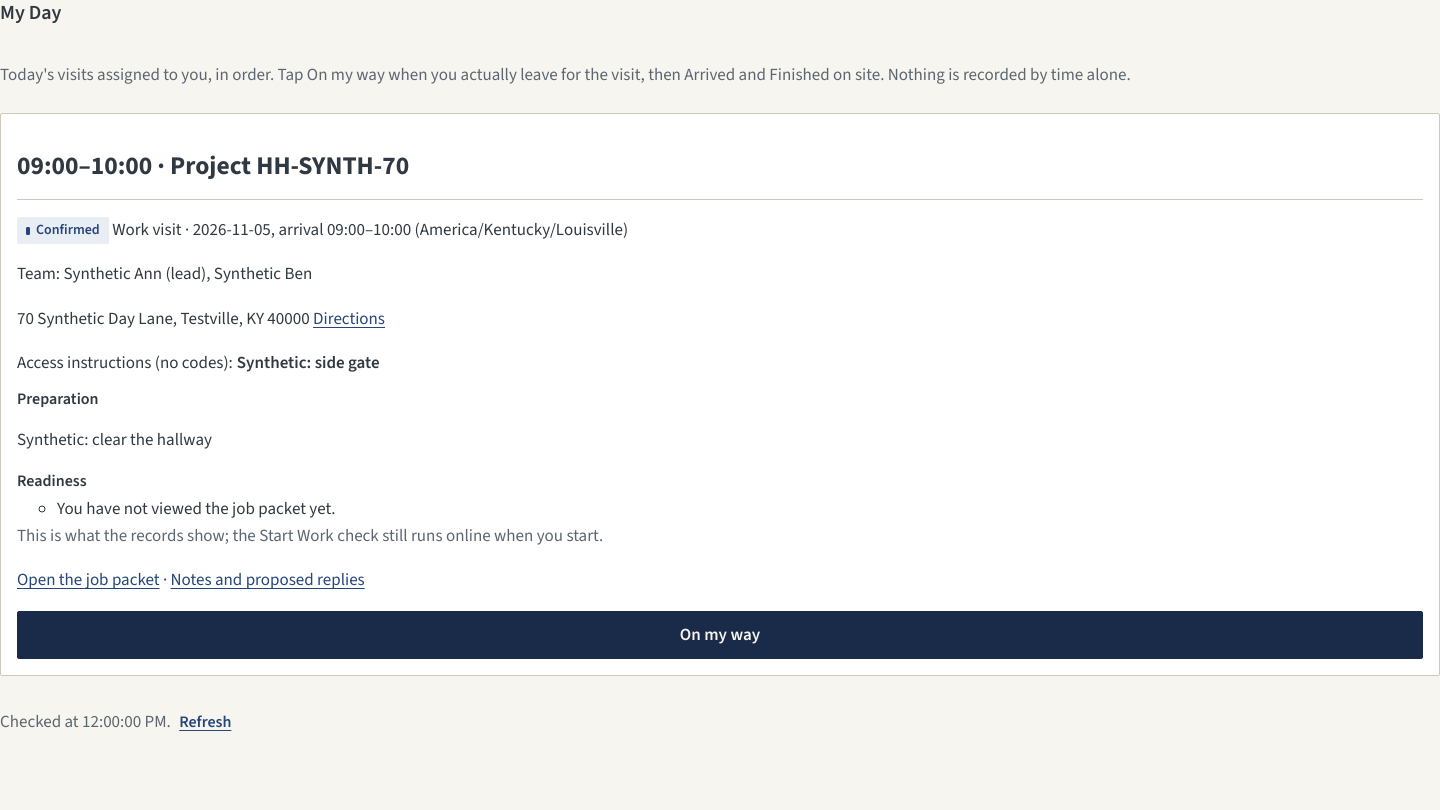
My Day (TSK-0070) › [HH-SCH-08][HH-WORK-06][OWN-DEC-149] the taps: On my way, then Arrived, then Finished, each the server’s answer; no check-in between
Click the button "On my way".
click(720, 635)  # box [17, 611, 1423, 659]
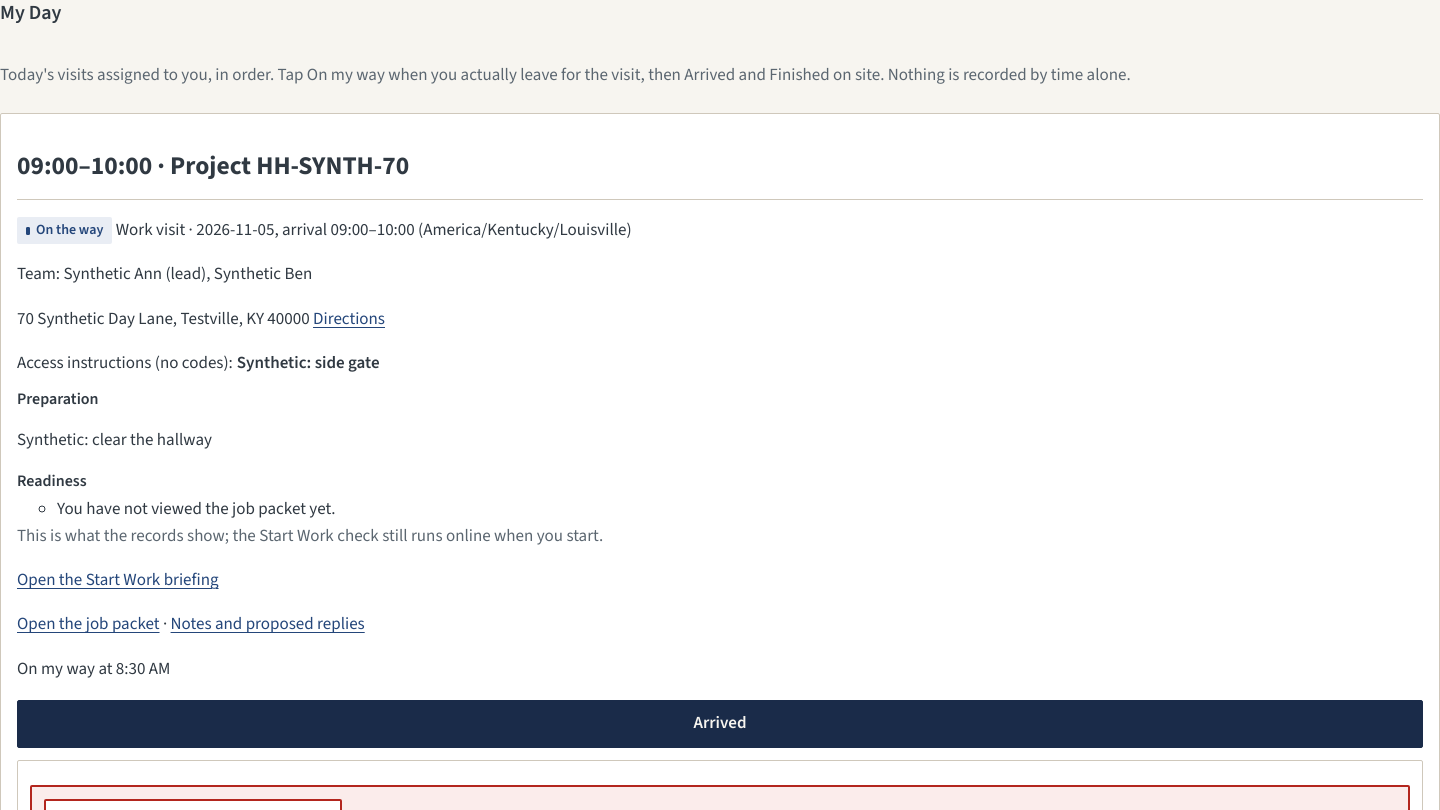
Now the text with test id "myday-mine" shows "On my way at 8:30", box [17, 657, 170, 681]
Click the button "Arrived".
click(720, 724)  # box [17, 700, 1423, 748]
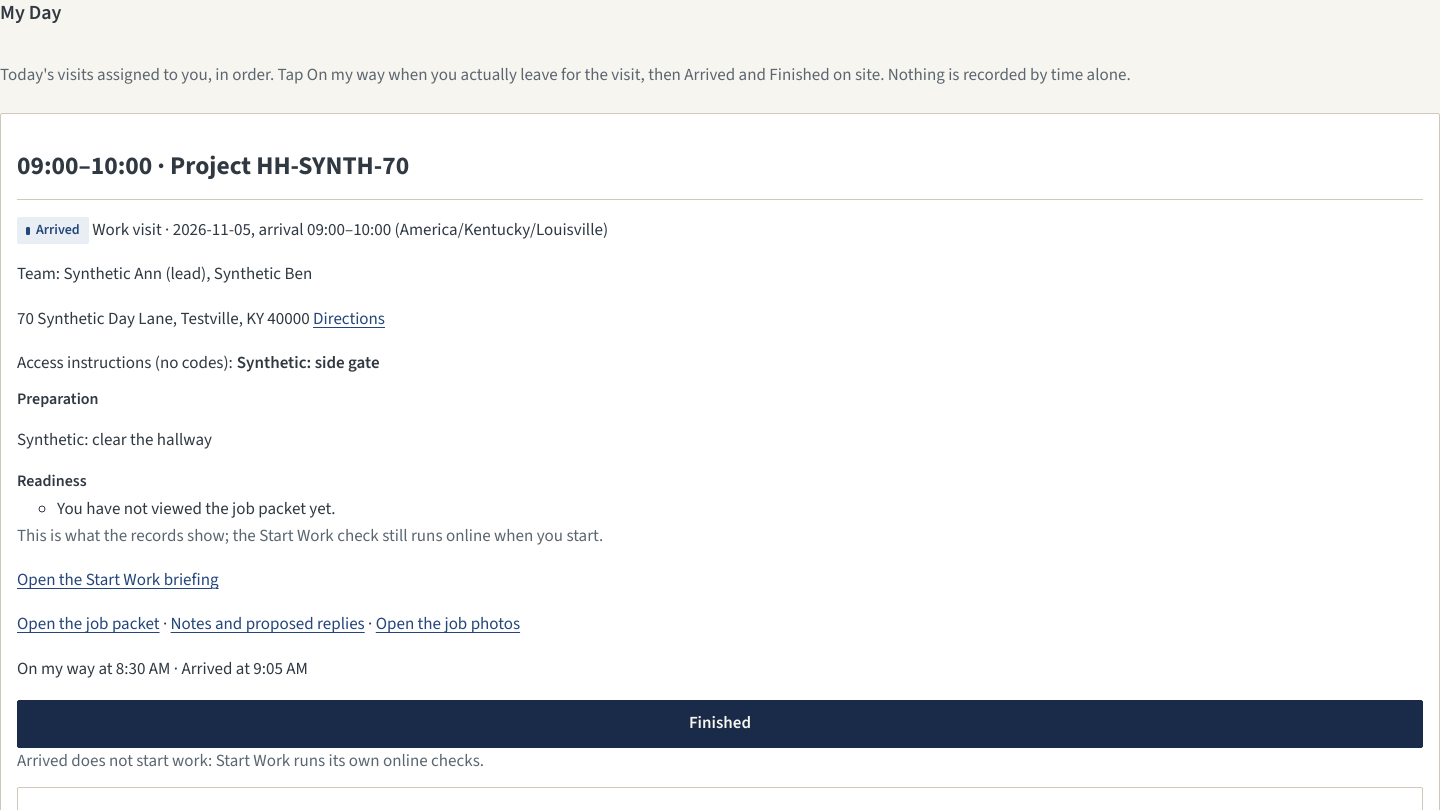
Now the text "Arrived does not start work: Start Work runs its own online checks." is shown, box [17, 749, 484, 773]
